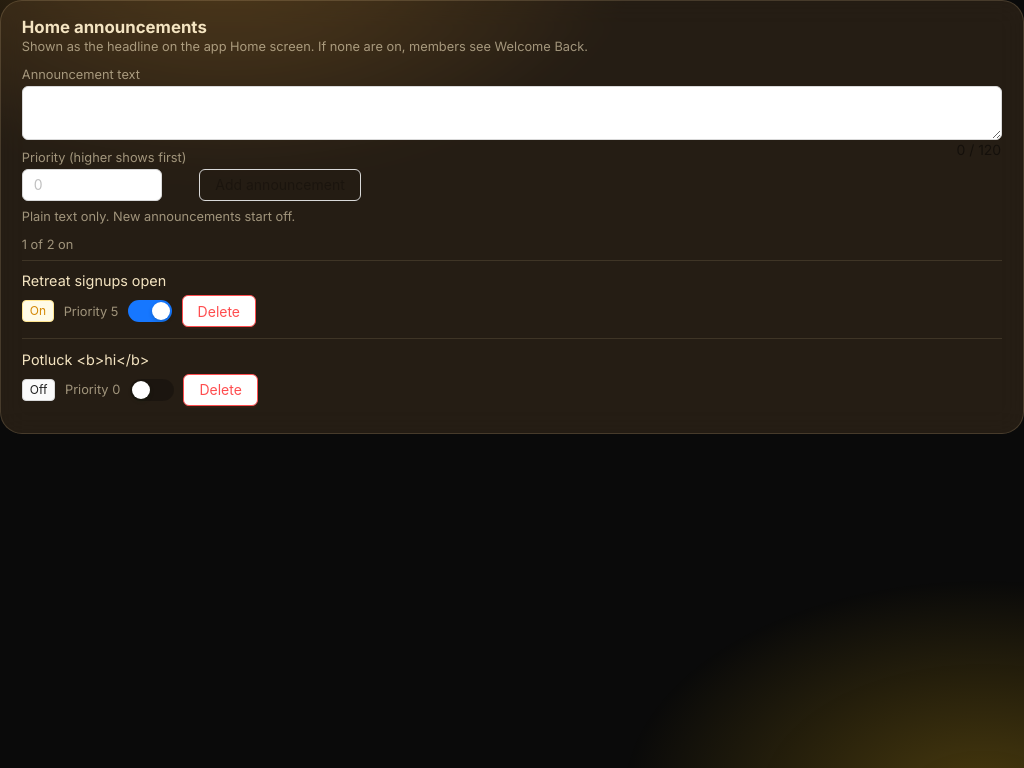
it: AdminHomeMessages › create is disabled when blank, then posts trimmed text with priority
expect the text "Retreat signups open" is shown: met, box [22,272,166,289]
expect the button "Add announcement" is disabled: met, box [199,169,361,201]
Type "  New one " into the text box labelled "Announcement text" at (512, 113), box [23,87,1001,139]
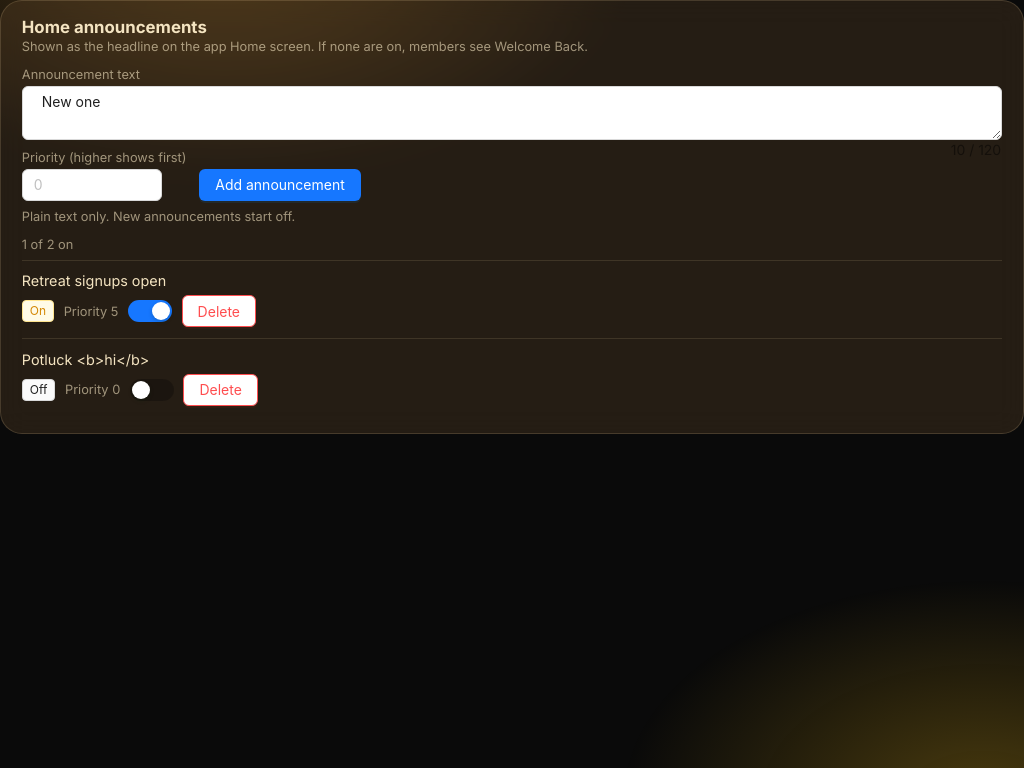
Type "3" into the number field labelled "Priority (higher shows first)" at (92, 185), box [22,169,162,201]
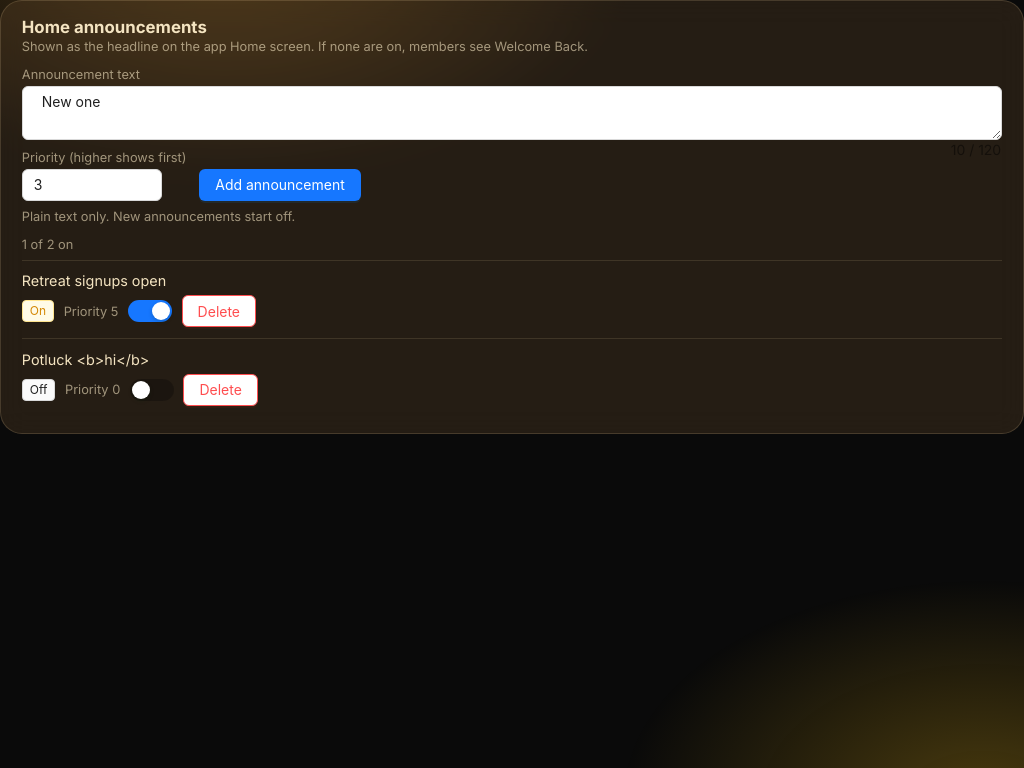
Click the button "Add announcement" at (280, 185), box [199,169,361,201]
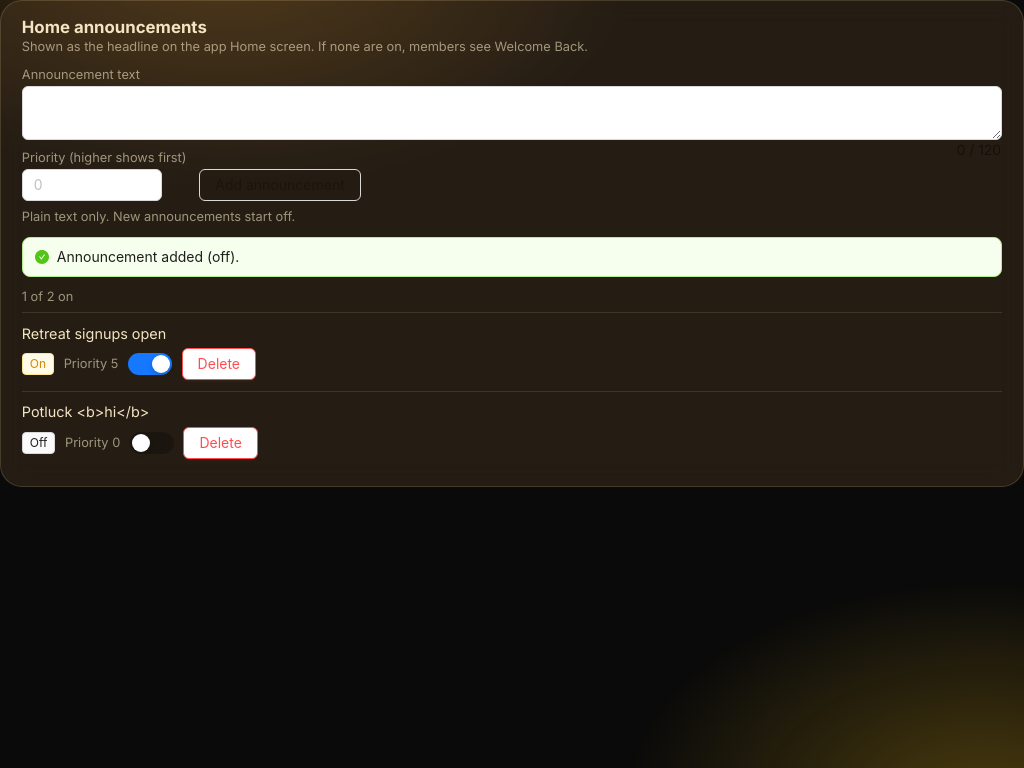
expect the text "Announcement added (off)." is shown: met, box [57,248,239,265]
